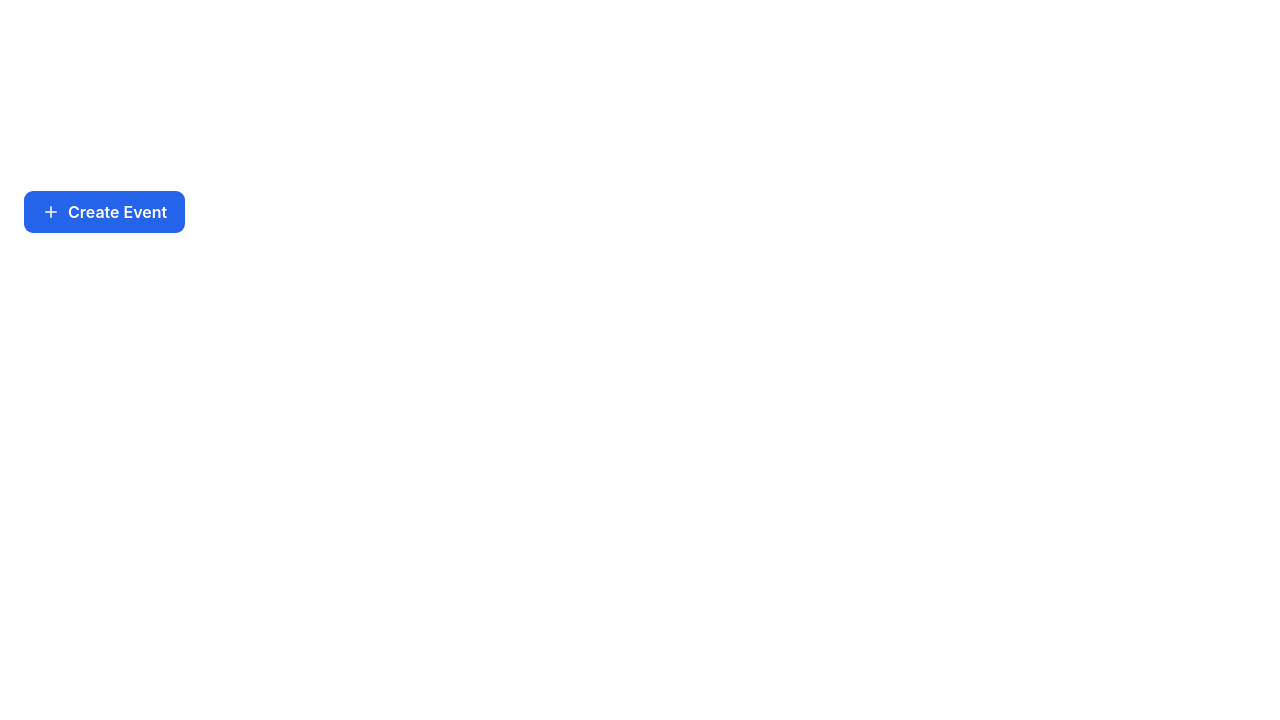
Test: Events Page › rejects event creation for an unverified or non-college account
Click the button "Create Event" at x=105, y=212, box [24,191,185,233]
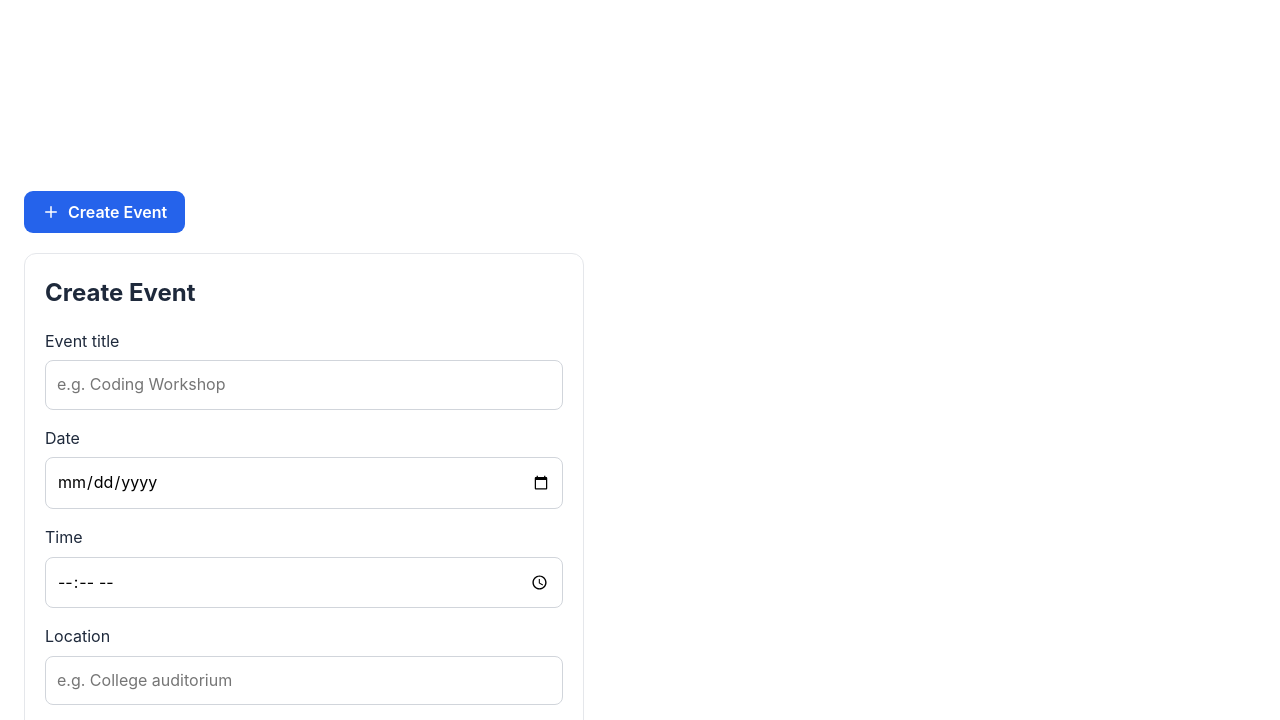
Type "Workshop" into the field labelled "Event title" at x=304, y=385, box [45,360,563,410]
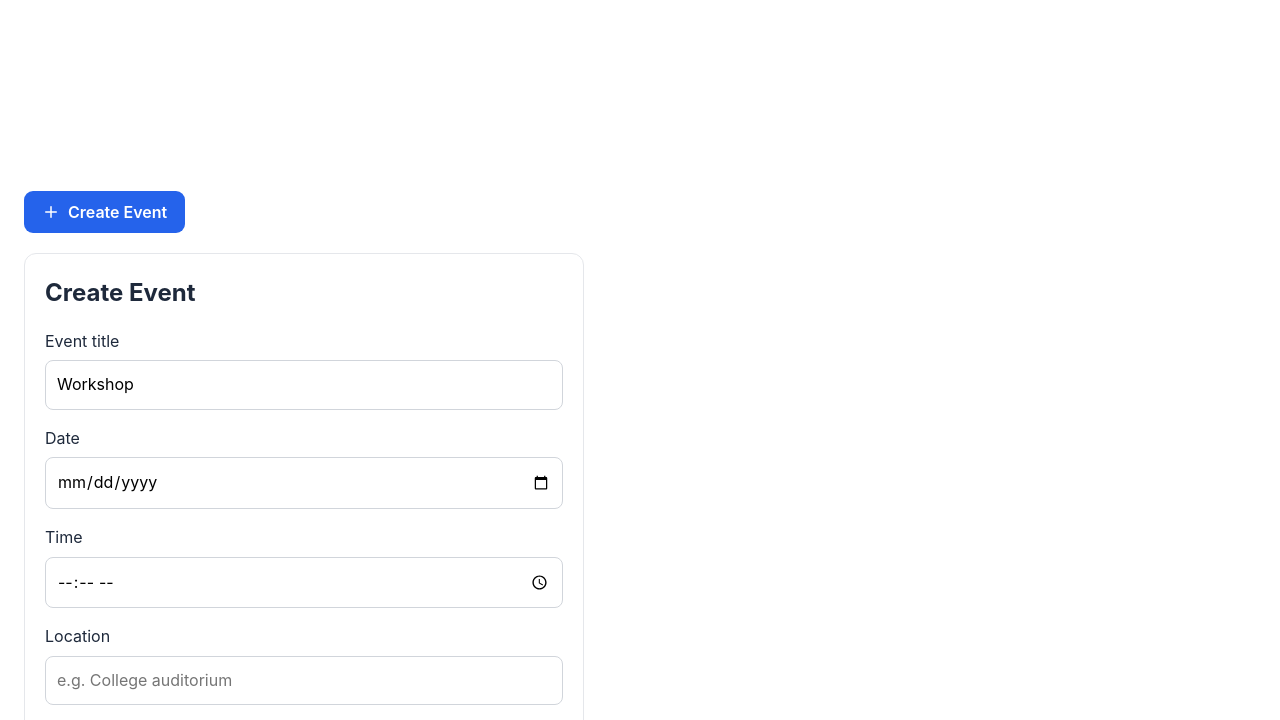
Type "2026-12-15" into the date field labelled "Date" at x=304, y=483, box [45,457,563,509]
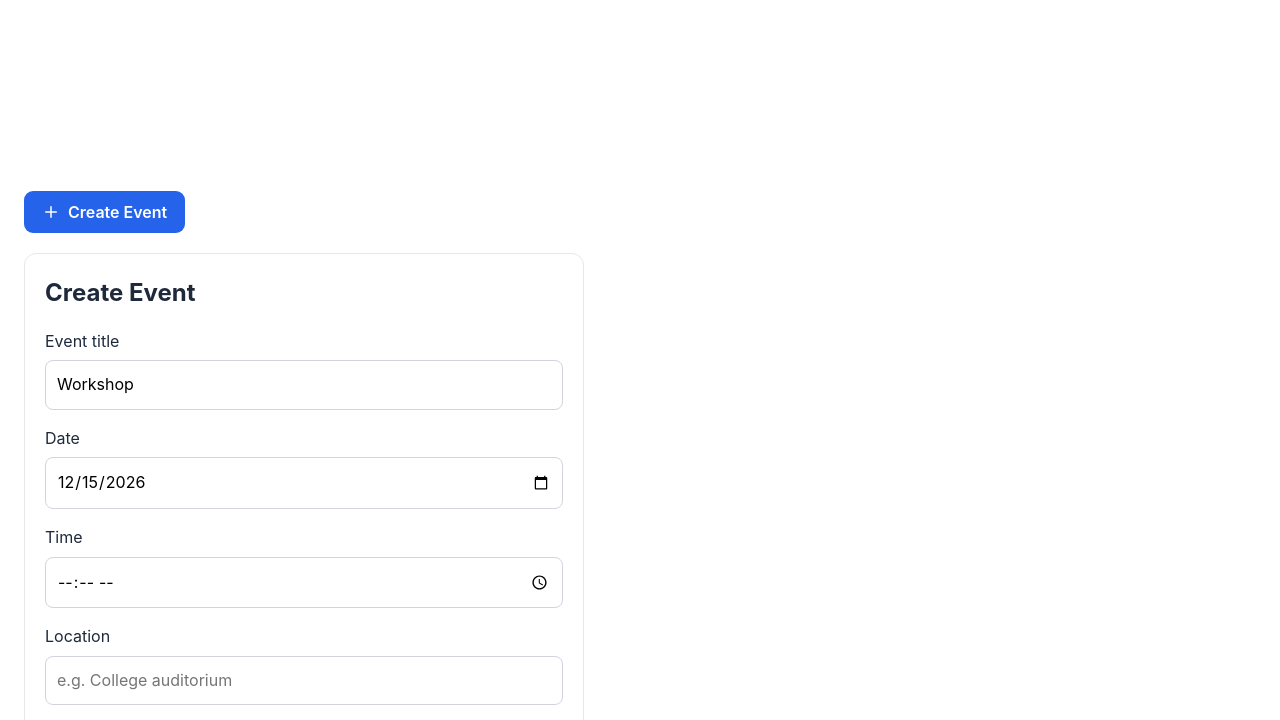
Type "Auditorium" into the field labelled "Location" at x=304, y=680, box [45,656,563,705]
(page scrolled)
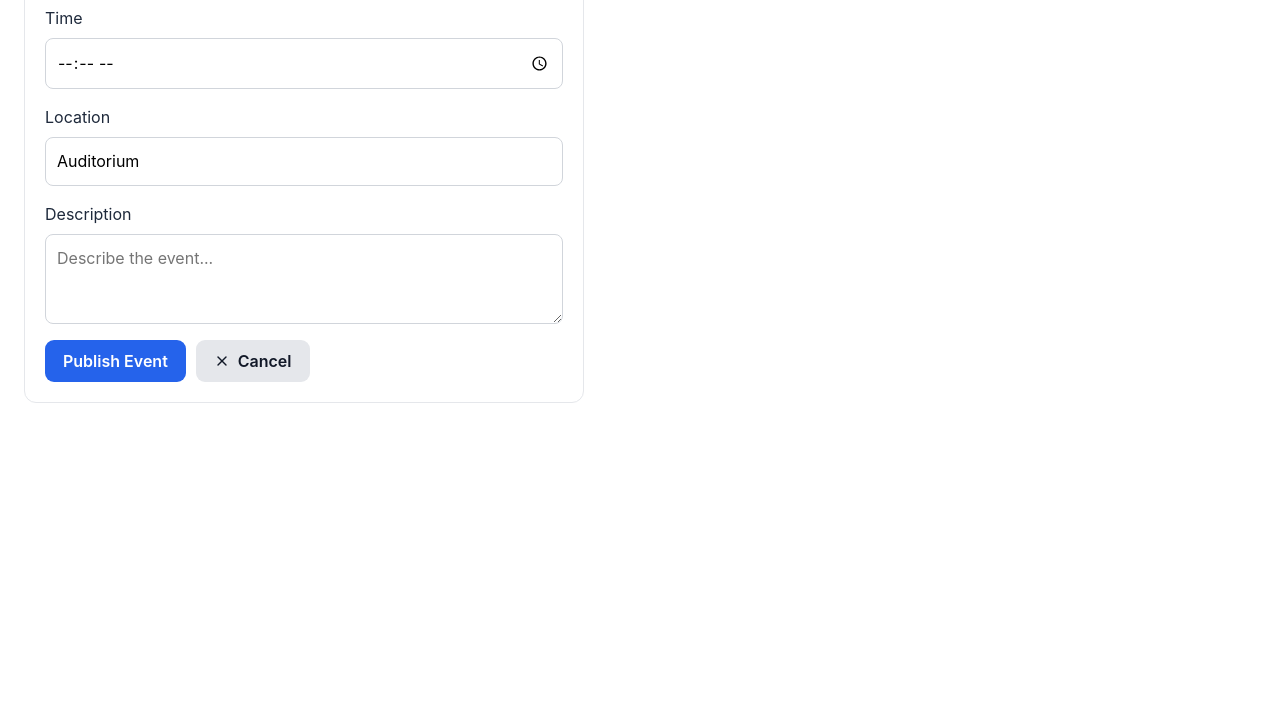
Click the button "Publish Event" at x=115, y=361, box [45,340,186,382]
(page scrolled)
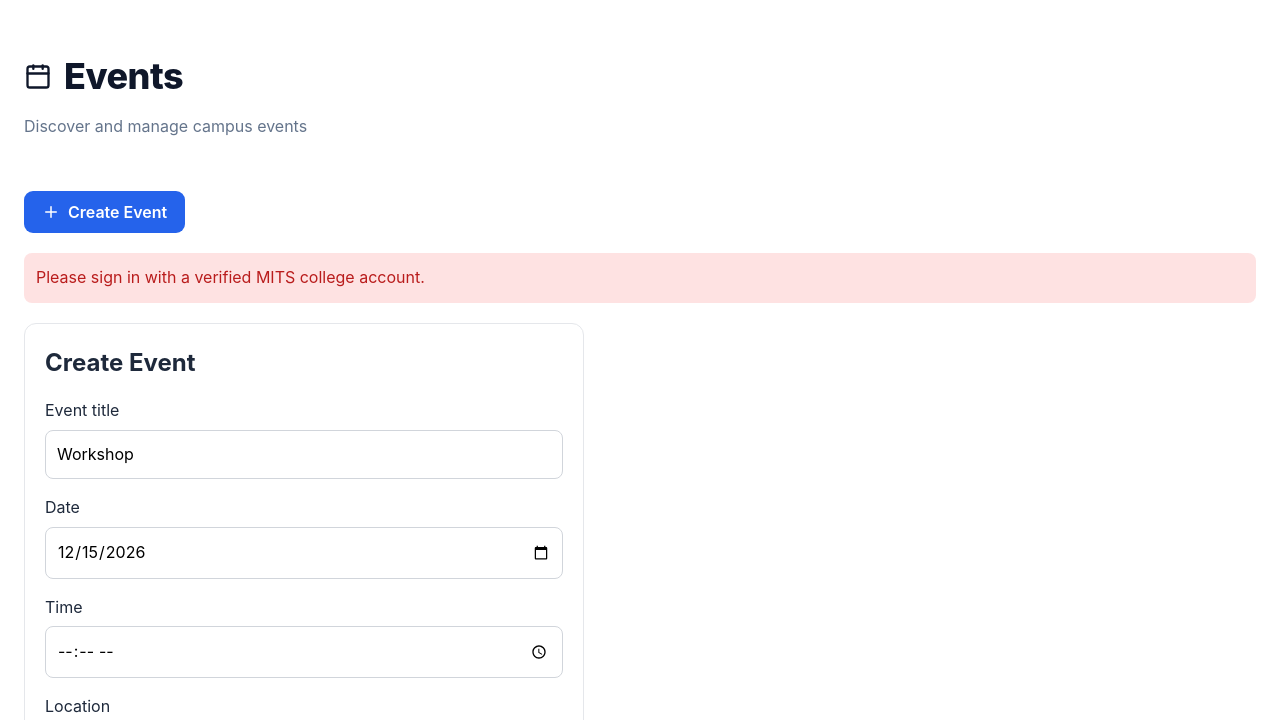
expect the message reads "Please sign in with a verified MITS college account.": met, box [36,267,425,287]
